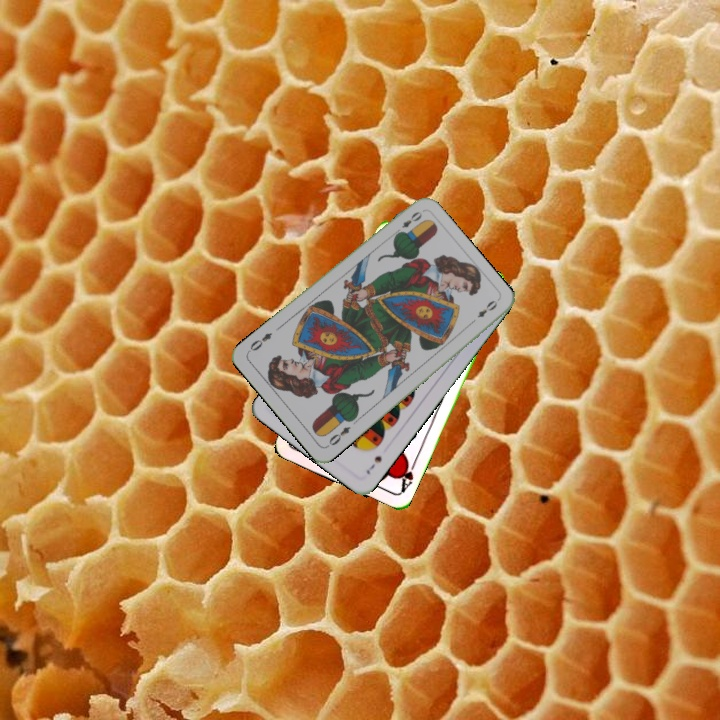EO: (390, 207, 425, 238), (325, 422, 353, 448)
HA: (395, 455, 418, 496)
S7: (362, 452, 384, 477)
